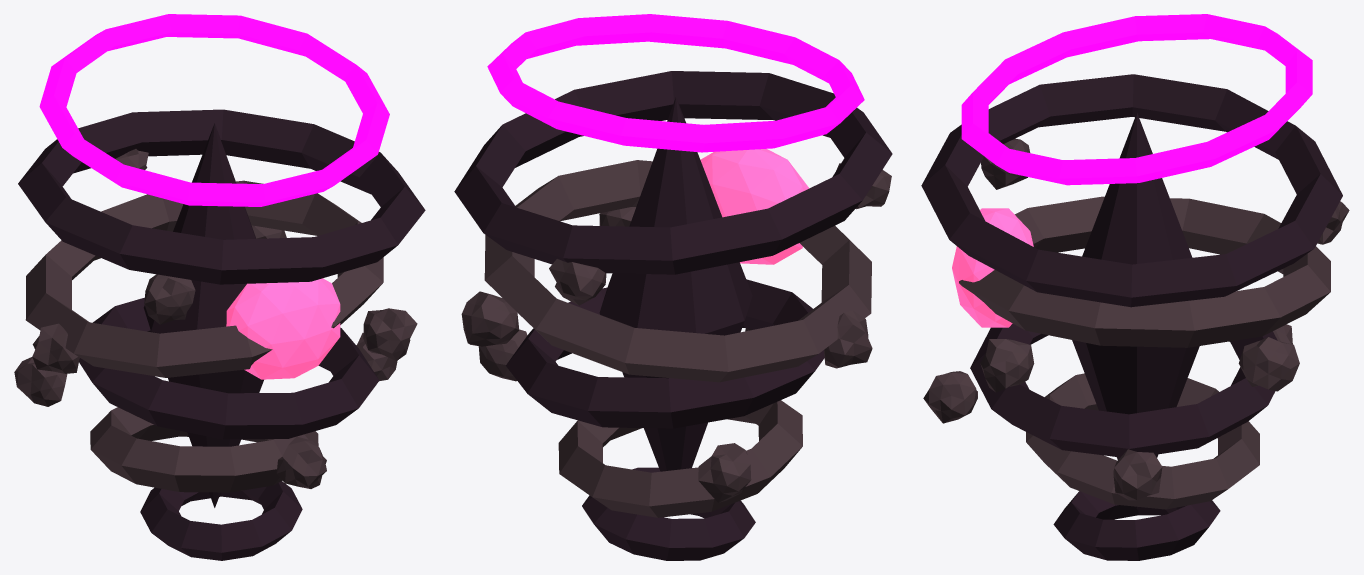
Rendered from boss1.fbx.
3 views of the same model, side by side, from view 1: azimuth 30°, elevation 25°; view 2: azimuth 150°, elevation 25°; view 3: azimuth 270°, elevation 25° (orthographic). The views are drawn at different scales.
Parts seen in each view (by area): view 1: SM_boss1_MAT_RockDark, SM_boss1_MAT_Rock, SM_boss1_MAT_GlowMagenta, SM_boss1_MAT_GlowRed; view 2: SM_boss1_MAT_RockDark, SM_boss1_MAT_Rock, SM_boss1_MAT_GlowMagenta, SM_boss1_MAT_GlowRed; view 3: SM_boss1_MAT_RockDark, SM_boss1_MAT_Rock, SM_boss1_MAT_GlowMagenta, SM_boss1_MAT_GlowRed.
Part boxes in pixels (x1=…): SM_boss1_MAT_RockDark: x1=18, y1=109, x2=425, y2=560; SM_boss1_MAT_Rock: x1=14, y1=149, x2=417, y2=492; SM_boss1_MAT_GlowMagenta: x1=39, y1=14, x2=389, y2=206; SM_boss1_MAT_GlowRed: x1=226, y1=278, x2=340, y2=379; SM_boss1_MAT_RockDark: x1=454, y1=71, x2=892, y2=560; SM_boss1_MAT_Rock: x1=461, y1=160, x2=891, y2=517; SM_boss1_MAT_GlowMagenta: x1=487, y1=14, x2=864, y2=152; SM_boss1_MAT_GlowRed: x1=700, y1=149, x2=809, y2=264; SM_boss1_MAT_RockDark: x1=921, y1=74, x2=1342, y2=560; SM_boss1_MAT_Rock: x1=923, y1=138, x2=1349, y2=509; SM_boss1_MAT_GlowMagenta: x1=961, y1=14, x2=1312, y2=185; SM_boss1_MAT_GlowRed: x1=952, y1=208, x2=1033, y2=327.
Bounding box in the file's own units: 3.03 × 3.67 × 3.
